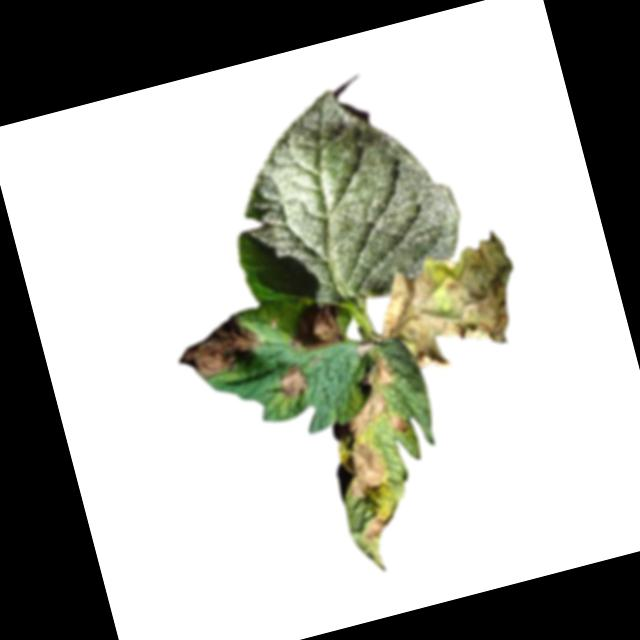Late_blight: (363, 227, 536, 386), (169, 307, 270, 386), (281, 294, 351, 356), (336, 439, 393, 502), (341, 389, 392, 436), (353, 348, 397, 395), (274, 359, 311, 401), (359, 509, 396, 541), (388, 411, 412, 436)
